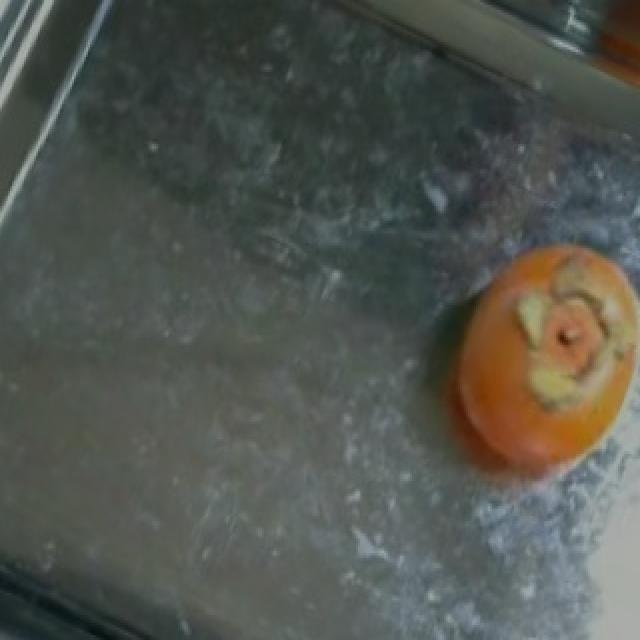Fruit: (424, 221, 638, 521), (556, 0, 640, 136)
